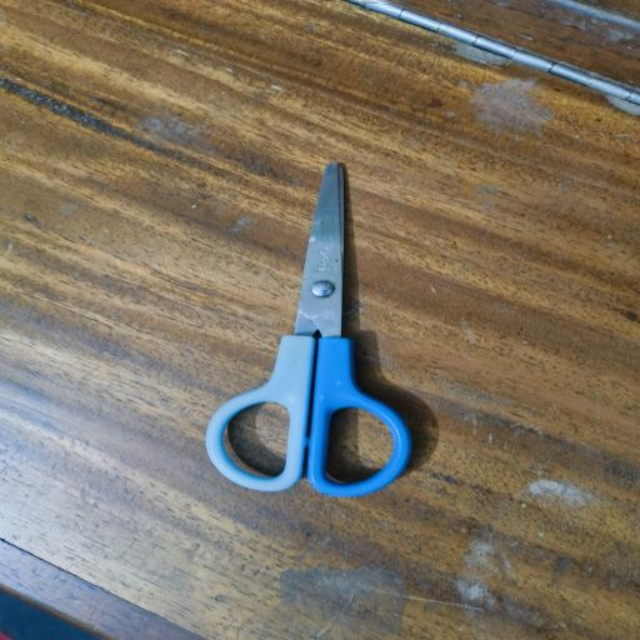scissor: (198, 160, 420, 498)
